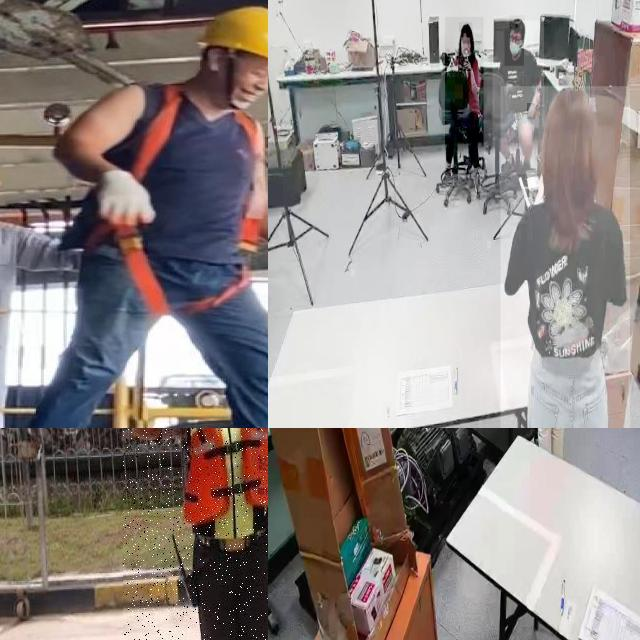Harness: (109, 82, 268, 320)
face_mask: (504, 28, 524, 66)
face_nomask: (461, 37, 471, 54)
hand_noglove: (527, 103, 535, 120), (464, 56, 472, 72)
head_nohelmet: (544, 86, 596, 132), (510, 15, 526, 29), (459, 22, 473, 34)
person: (500, 86, 630, 428), (123, 428, 268, 640), (492, 20, 544, 174), (445, 17, 484, 175)
vest: (180, 428, 268, 546)
